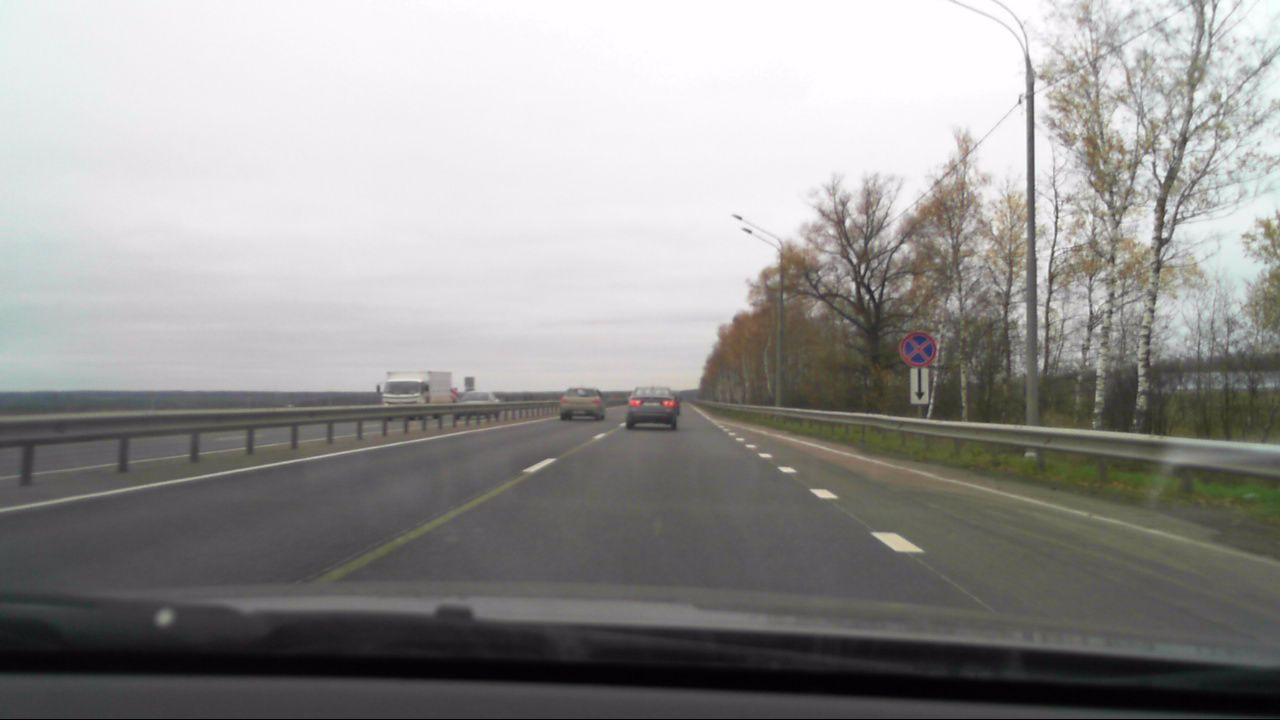3_27: (897, 331, 936, 367)
8_2_3: (910, 367, 930, 405)
